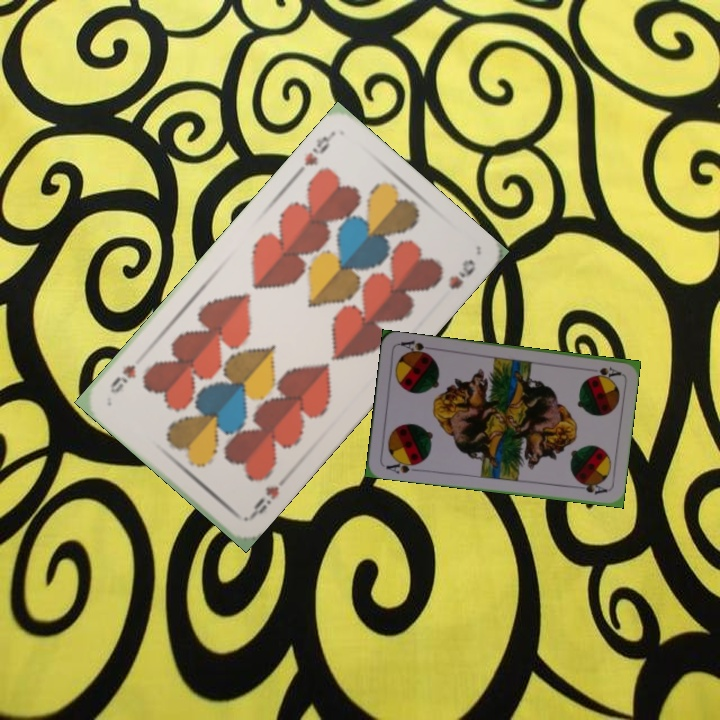H9: (245, 481, 282, 522), (300, 129, 336, 169)
SA: (382, 456, 422, 476), (589, 363, 623, 380)
